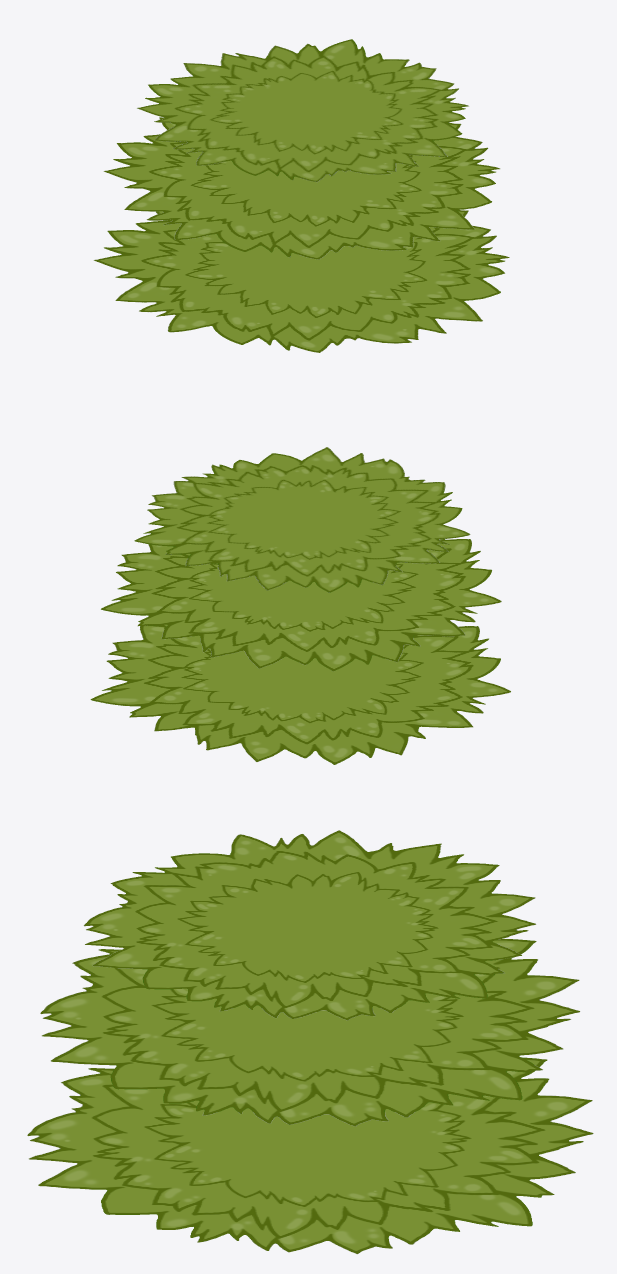
Rendered from bush2.FBX.
3 views of the same model, one above another, from view 1: azimuth 30°, elevation 25°; view 2: azimuth 150°, elevation 25°; view 3: azimuth 270°, elevation 25° (orthographic). The views are drawn at different scales.
Visible parts, largest first — view 1: bush, leaves003, leaves002; view 2: bush, leaves003, leaves002; view 3: bush, leaves003, leaves002.
Part boxes in pixels (left/top/right/bottom): bush: left=93, top=210, right=509, bottom=352; leaves003: left=137, top=39, right=468, bottom=182; leaves002: left=103, top=117, right=500, bottom=259; bush: left=90, top=624, right=510, bottom=764; leaves003: left=134, top=447, right=470, bottom=592; leaves002: left=101, top=539, right=501, bottom=671; bush: left=27, top=1057, right=593, bottom=1254; leaves003: left=83, top=830, right=536, bottom=1020; leaves002: left=40, top=939, right=580, bottom=1126.
Bounding box in the file's own units: 64.17 × 64.17 × 25.21.
Materials: 1 (1 with a texture image).
